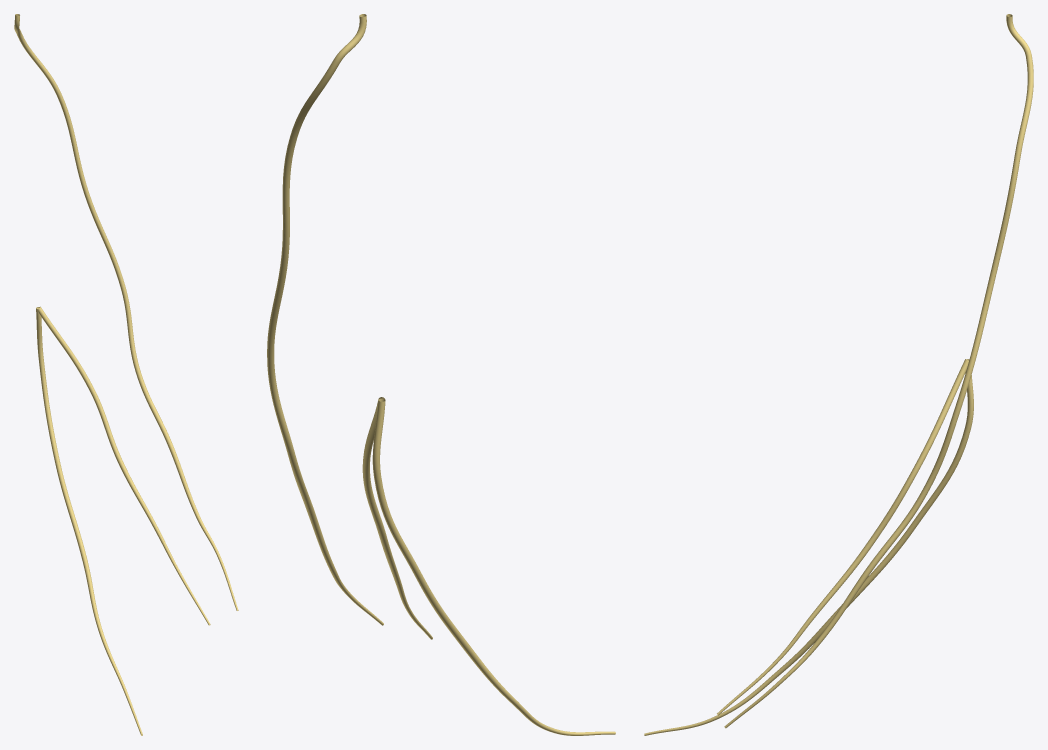
The picture shows the model from 3 angles, left to right: view 1: azimuth 30°, elevation 25°; view 2: azimuth 150°, elevation 25°; view 3: azimuth 270°, elevation 25°; orthographic projection. The views are drawn at different scales.
Parts seen in each view (by area): view 1: ZA_be79ef174b78e350; view 2: ZA_be79ef174b78e350; view 3: ZA_be79ef174b78e350.
Part boxes in pixels (<box>): ZA_be79ef174b78e350: <box>14,14,238,735</box>; ZA_be79ef174b78e350: <box>267,14,615,735</box>; ZA_be79ef174b78e350: <box>644,14,1033,735</box>.
Bounding box in the file's own units: 0.0303 × 0.1306 × 0.0627.
